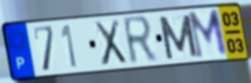1: (60, 23, 80, 70)
7: (32, 24, 55, 73)
M: (186, 7, 230, 61), (156, 13, 200, 62)
R: (121, 13, 160, 68)
X: (92, 18, 128, 68)
